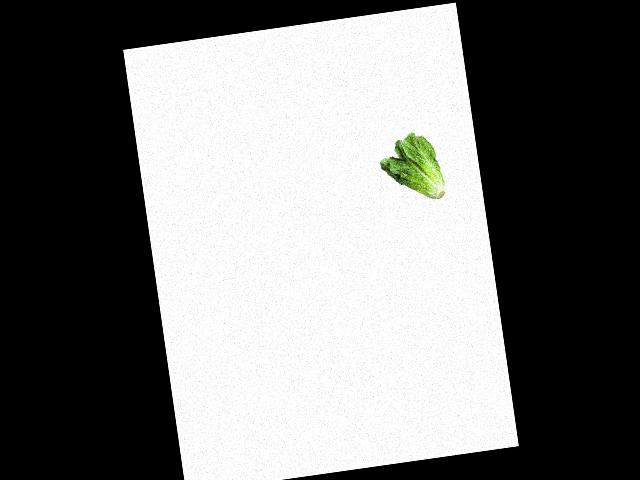lettuce: (372, 129, 449, 204)
